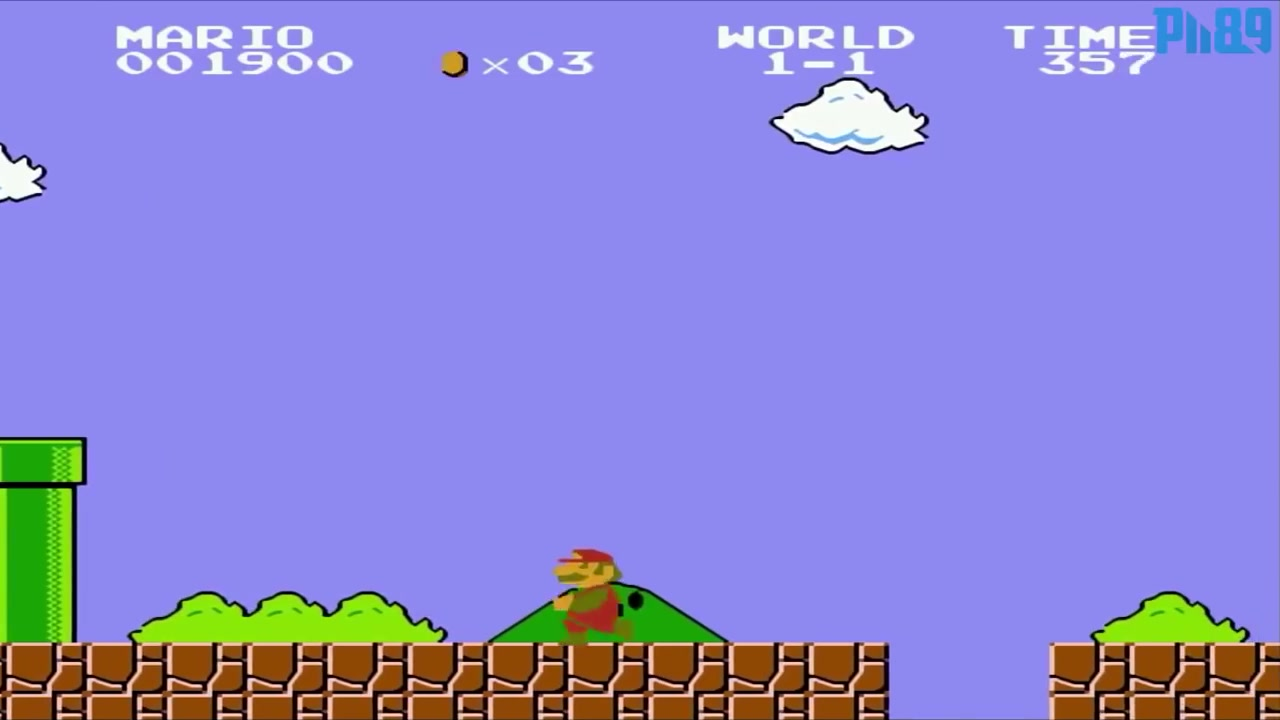mario: (532, 542, 647, 645)
